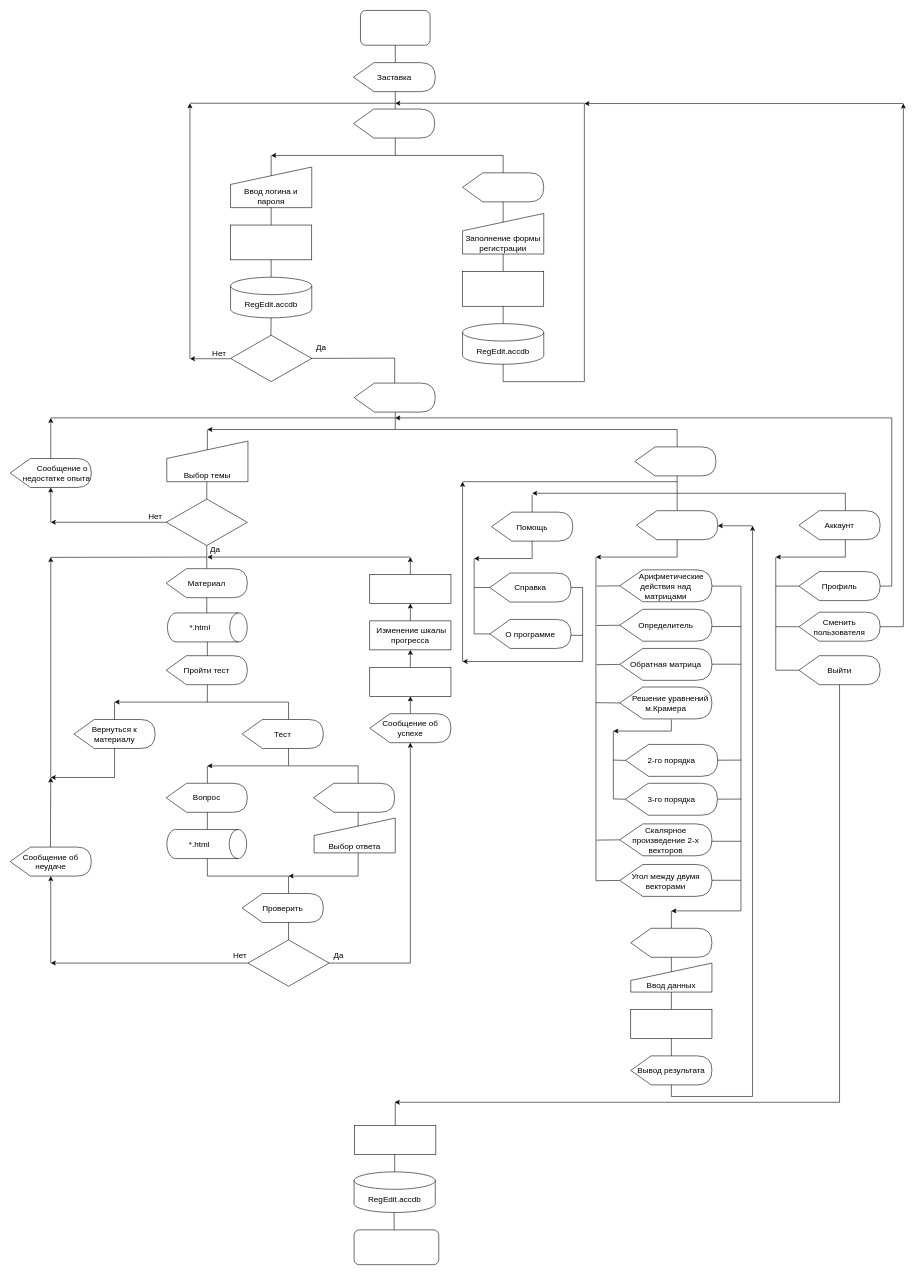
Image size: 918x1275. Some labels were removed from this diagram. Here are the shapes that lost their labels. From the top down, the box of each, then its label:
(360, 10, 430, 45): Начало
(353, 108, 435, 138): Форма авторизации
(462, 172, 544, 202): Форма регистрации
(230, 224, 312, 260): Поиск пользователя в БД
(462, 271, 544, 306): Добавление пользователя в БД
(230, 335, 312, 382): Пользователь найден?
(354, 383, 435, 412): Главная форма
(634, 446, 716, 476): Главное меню
(166, 499, 247, 545): Достаточно опыта?
(636, 510, 718, 540): Калькулятор
(369, 574, 451, 603): Следующая тема
(369, 667, 451, 696): Увеличение опыта пользователя
(313, 783, 395, 812): Варианты ответа
(247, 939, 329, 986): Правильный ответ?
(630, 928, 712, 957): Форма с калькулятором
(630, 1009, 712, 1038): Расчёты
(354, 1125, 436, 1154): Изменение опыта пользователя в БД
(354, 1229, 439, 1265): Конец
